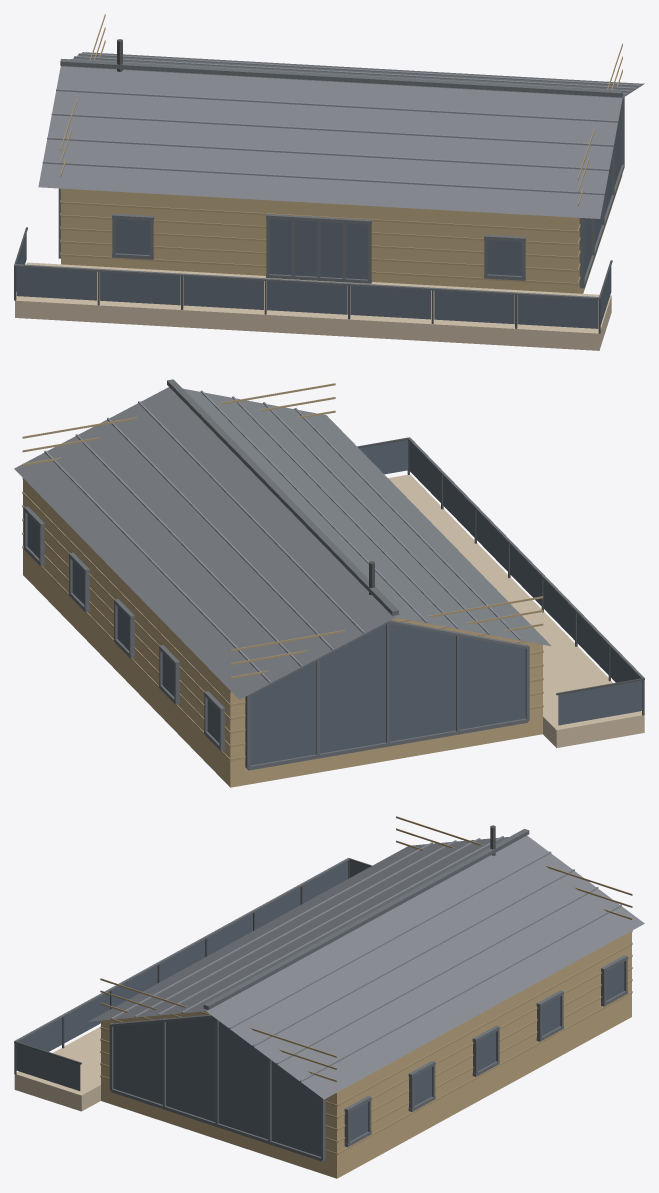
3 views of the same model, one above another, from view 1: azimuth 30°, elevation 25°; view 2: azimuth 150°, elevation 25°; view 3: azimuth 270°, elevation 25° (orthographic). The views are drawn at different scales.
Visible parts, largest first — view 1: slate, door_wood, larch, slate_dk, slate_lt, door_wood_p, window_glass_007, window_glass_004, window_glass_001, window_glass_003, window_glass_002, window_glass_005 (+9 smaller); view 2: slate, window_glass_016, door_wood, slate_dk, larch, slate_lt, door_wood_p, window_glass_008, pipe, window_glass_009, window_glass_005, window_glass_006 (+4 smaller); view 3: slate, door_wood, window_glass_017, slate_dk, slate_lt, door_wood_p, larch, window_glass_009, window_glass_006, window_glass_001, window_glass_004, pipe (+9 smaller).
Part boxes in pixels (x1=…): slate: x1=38, y1=52, x2=644, y2=218; door_wood: x1=61, y1=175, x2=622, y2=293; larch: x1=15, y1=262, x2=611, y2=350; slate_dk: x1=15, y1=58, x2=624, y2=299; slate_lt: x1=42, y1=53, x2=640, y2=195; door_wood_p: x1=60, y1=14, x2=622, y2=285; window_glass_007: x1=517, y1=295, x2=598, y2=328; window_glass_004: x1=267, y1=281, x2=347, y2=314; window_glass_001: x1=16, y1=267, x2=96, y2=300; window_glass_003: x1=183, y1=276, x2=263, y2=309; window_glass_002: x1=100, y1=271, x2=180, y2=305; window_glass_005: x1=350, y1=286, x2=430, y2=319; slate: x1=14, y1=387, x2=551, y2=699; window_glass_016: x1=250, y1=623, x2=525, y2=765; door_wood: x1=23, y1=430, x2=542, y2=787; slate_dk: x1=24, y1=379, x2=644, y2=770; larch: x1=388, y1=474, x2=644, y2=748; slate_lt: x1=44, y1=390, x2=521, y2=683; door_wood_p: x1=22, y1=383, x2=543, y2=760; window_glass_008: x1=558, y1=680, x2=642, y2=725; pipe: x1=357, y1=437, x2=644, y2=715; window_glass_009: x1=359, y1=440, x2=407, y2=474; window_glass_005: x1=476, y1=510, x2=507, y2=571; window_glass_006: x1=443, y1=476, x2=474, y2=537; slate: x1=89, y1=835, x2=644, y2=1099; door_wood: x1=101, y1=931, x2=631, y2=1178; window_glass_017: x1=113, y1=1017, x2=320, y2=1156; slate_dk: x1=15, y1=829, x2=627, y2=1161; slate_lt: x1=111, y1=836, x2=621, y2=1081; door_wood_p: x1=100, y1=816, x2=632, y2=1154; larch: x1=14, y1=1027, x2=100, y2=1111; window_glass_009: x1=16, y1=1043, x2=80, y2=1090; window_glass_006: x1=64, y1=992, x2=109, y2=1043; window_glass_001: x1=302, y1=861, x2=348, y2=903; window_glass_004: x1=159, y1=940, x2=205, y2=981; pipe: x1=14, y1=825, x2=495, y2=1074.
Size of the model in its own units: 18.76 by 5.1 by 17.9.
